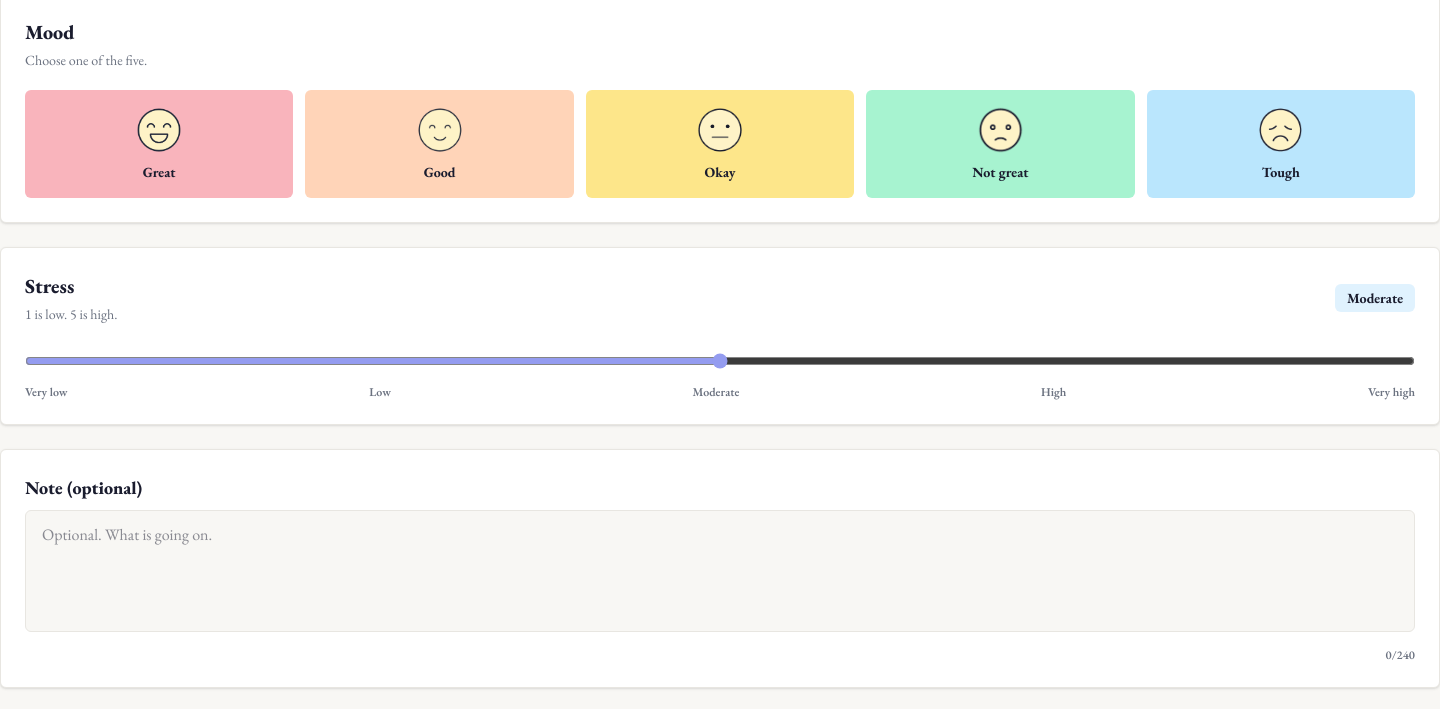
Test: mood and stress tracking › shows an error when saving fails
The width and height of the screenshot is (1440, 709).
Click the button "Great": (159, 144) [25, 90, 293, 198]
(page scrolled)
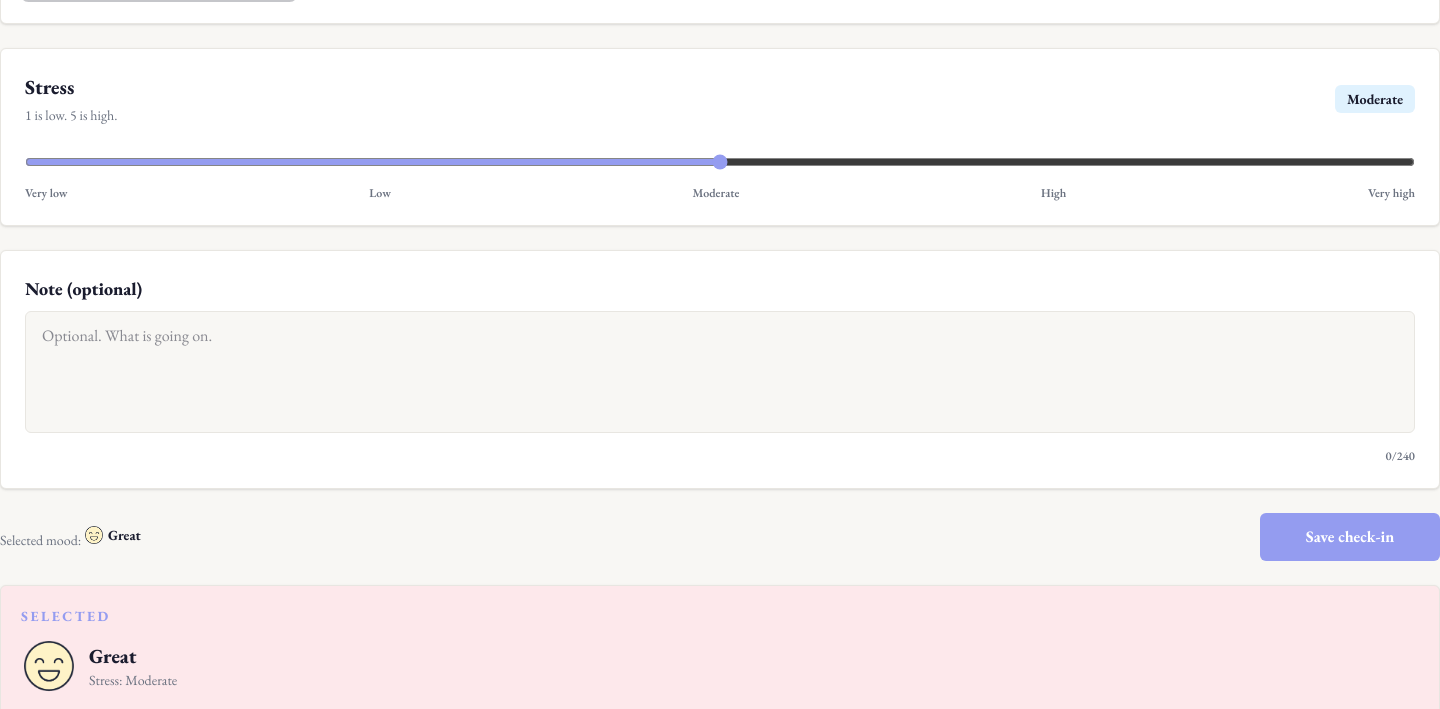
Click the button "Save check-in": (1350, 537) [1260, 513, 1439, 561]
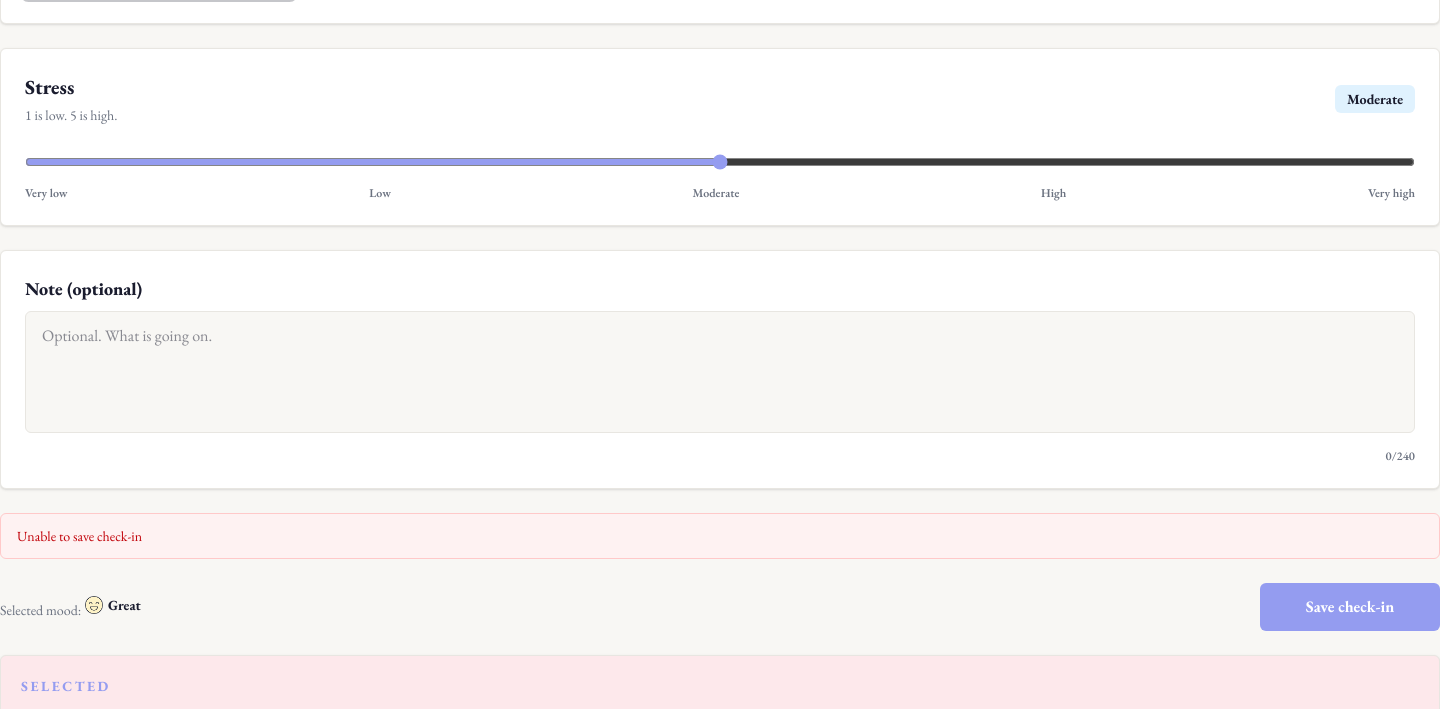
Expected: the text "Unable to save check-in" is shown, [0, 513, 1439, 559]
